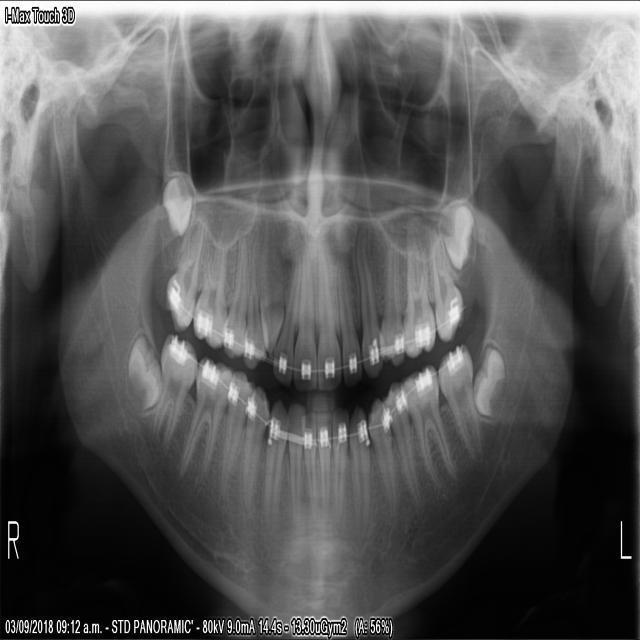LCD: (349, 402, 370, 547)
LCU: (353, 222, 385, 382)
LID: (331, 403, 350, 529), (316, 408, 331, 525)
LIU: (315, 233, 342, 393), (334, 253, 362, 391)
LMD: (403, 360, 457, 489), (437, 339, 484, 461), (473, 341, 506, 421)
LMU: (403, 213, 436, 359), (428, 217, 465, 347), (437, 196, 475, 272)
LPMD: (387, 377, 424, 517), (366, 393, 396, 517)
LPMU: (379, 228, 404, 370)
RCD: (261, 394, 285, 515)
RCU: (257, 200, 283, 359)
RID: (299, 408, 317, 529), (285, 398, 301, 528)
RIU: (270, 243, 299, 389), (291, 240, 316, 393)
RMD: (173, 350, 230, 489), (150, 332, 197, 447), (124, 332, 158, 416)
RMU: (161, 206, 209, 333), (190, 235, 227, 351)
RPMD: (216, 367, 255, 498), (239, 381, 268, 513)
RPMU: (221, 228, 248, 361), (241, 225, 265, 372)
